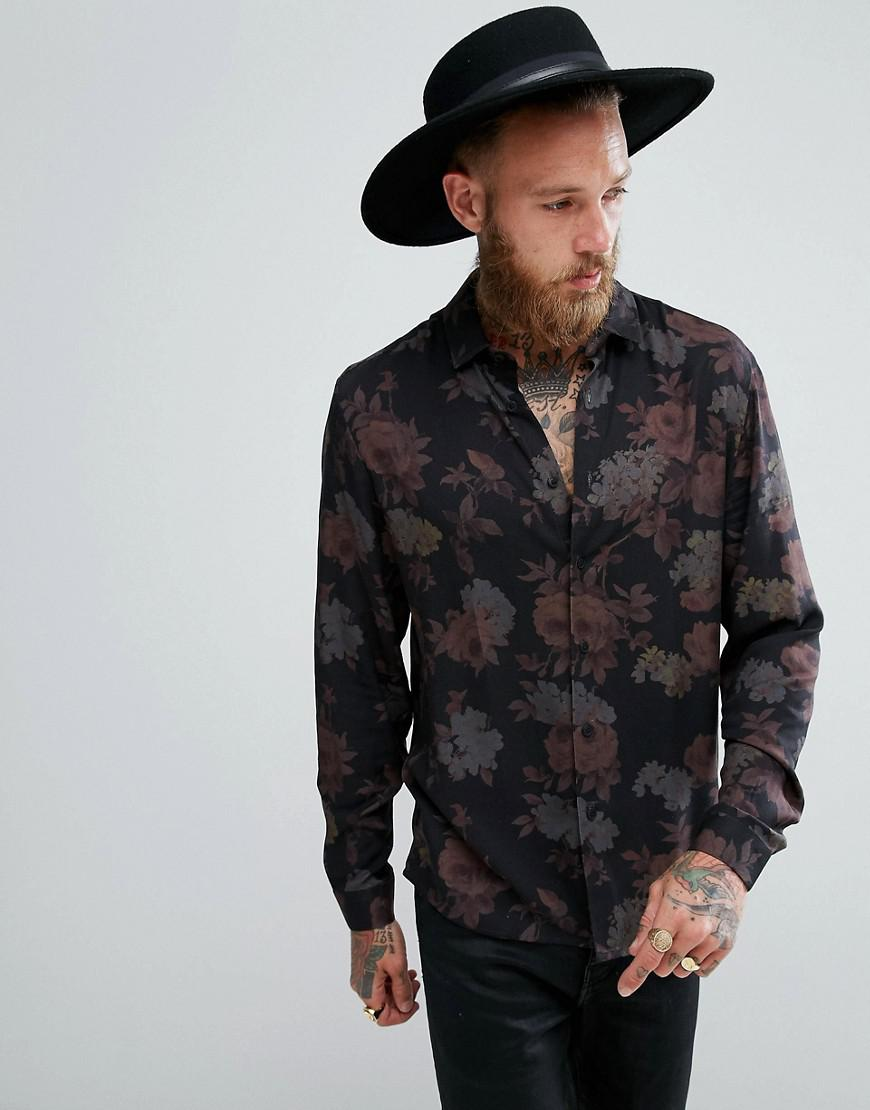teeshirt: (286, 274, 832, 981)
